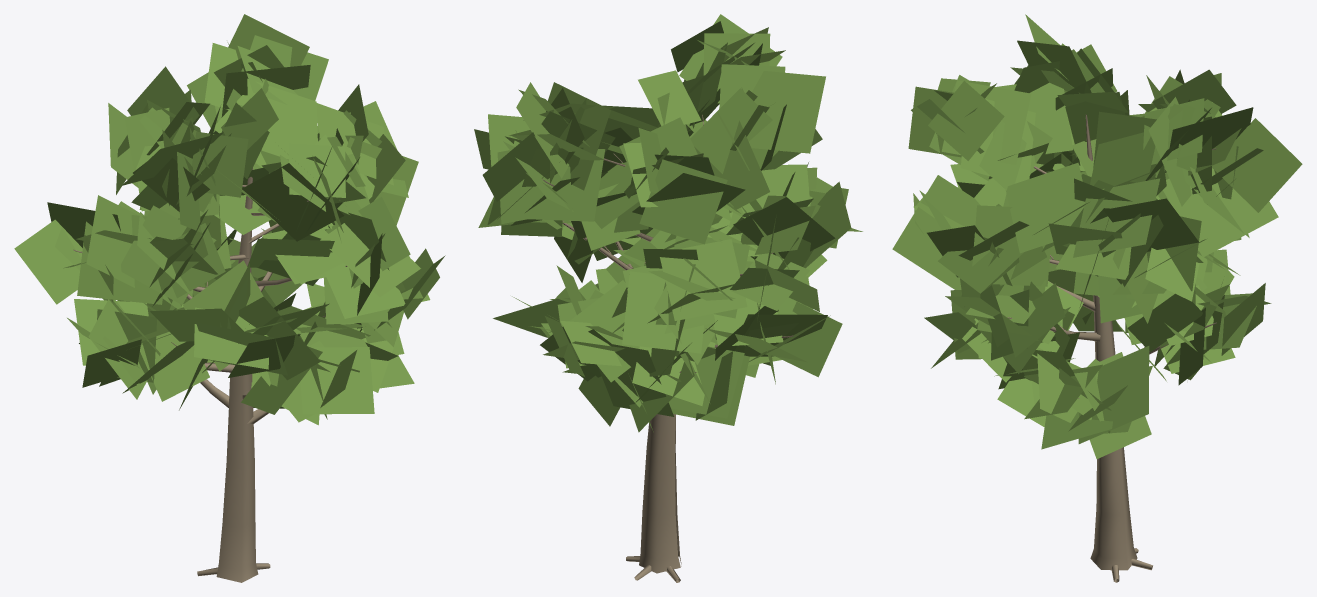
File: oak-1-lod2.glb
3 renders of one model, left to right at view 1: azimuth 30°, elevation 25°; view 2: azimuth 150°, elevation 25°; view 3: azimuth 270°, elevation 25°, orthographic.
Parts seen in each view (by area): view 1: oak-1-lod2-foliage, oak-1-lod2-bark; view 2: oak-1-lod2-foliage, oak-1-lod2-bark; view 3: oak-1-lod2-foliage, oak-1-lod2-bark.
Boxes of the visible parts, x1=… form: oak-1-lod2-foliage: x1=14, y1=14, x2=445, y2=425; oak-1-lod2-bark: x1=73, y1=168, x2=347, y2=582; oak-1-lod2-foliage: x1=474, y1=14, x2=862, y2=432; oak-1-lod2-bark: x1=542, y1=115, x2=793, y2=582; oak-1-lod2-foliage: x1=892, y1=14, x2=1302, y2=458; oak-1-lod2-bark: x1=1007, y1=114, x2=1216, y2=582.
Size of the model in its own units: 16.21 by 21.27 by 15.77.
